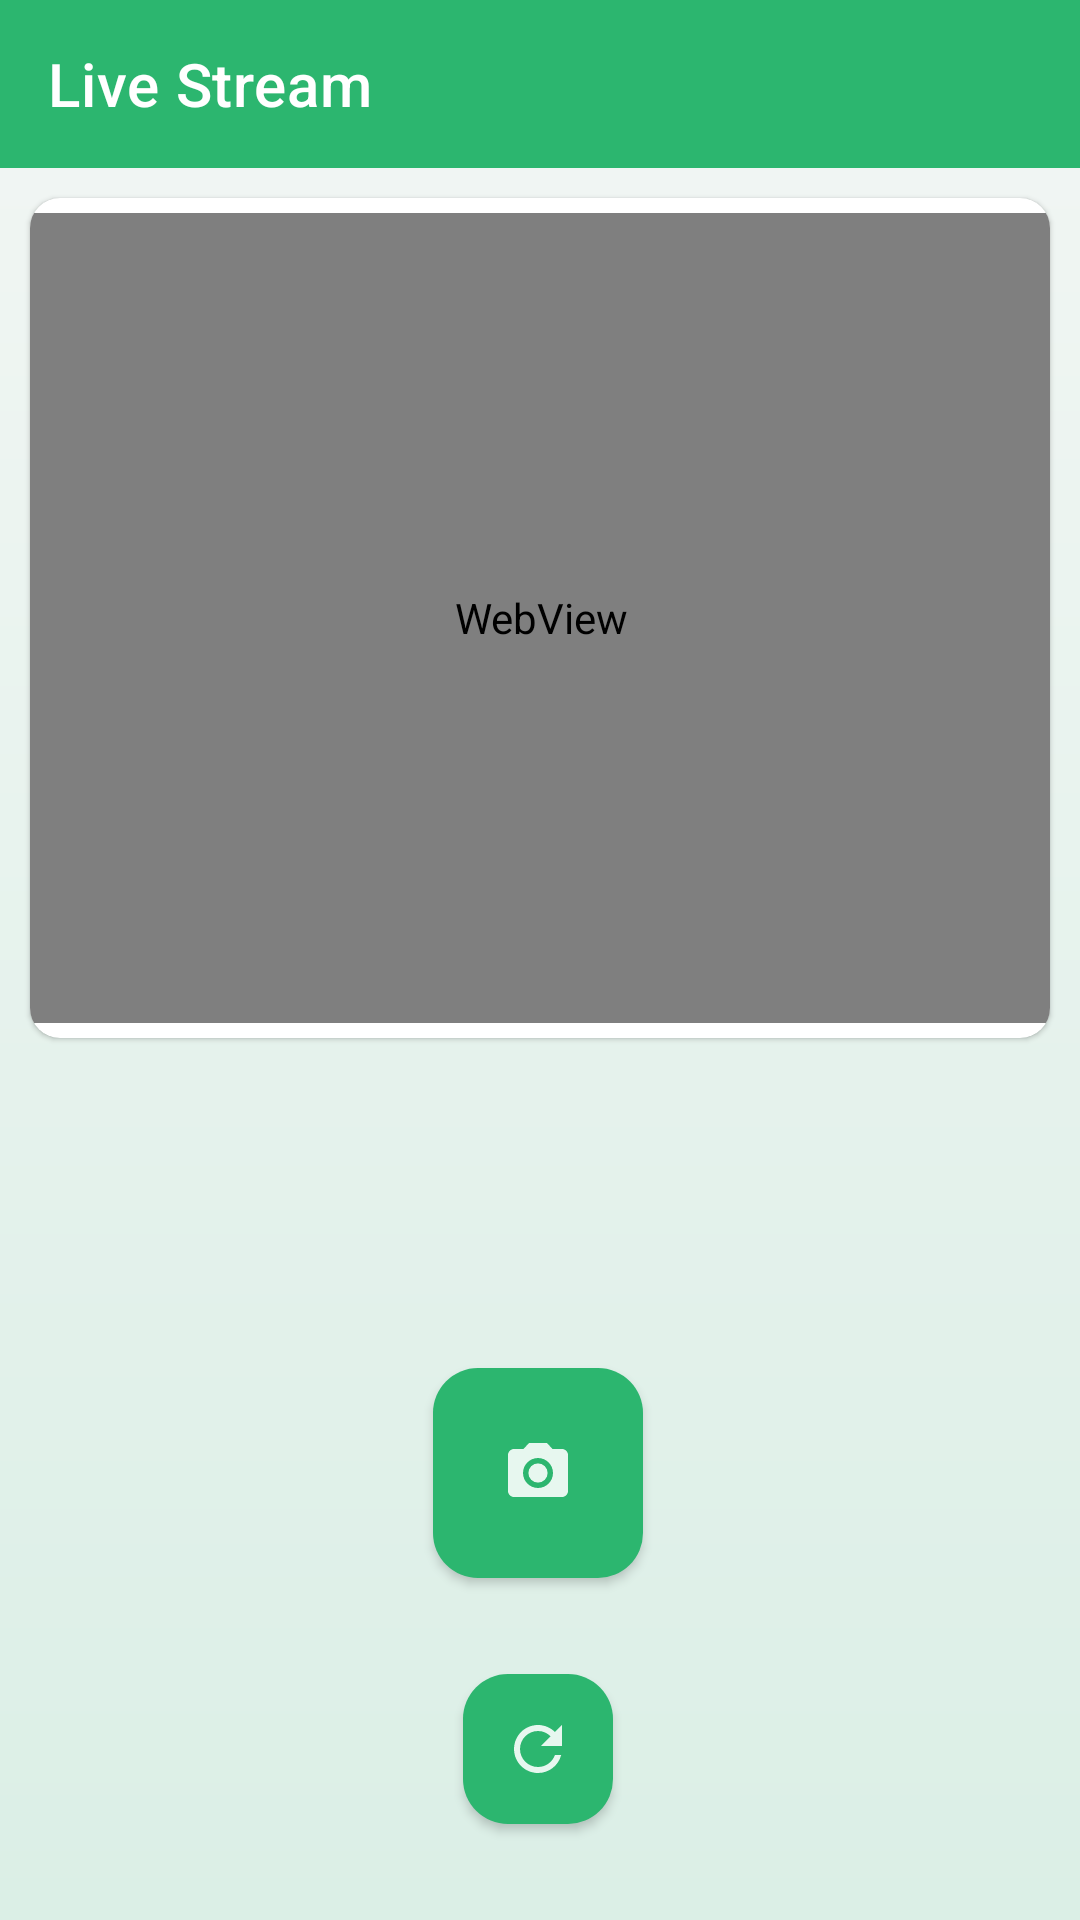

Point at icon controls on the screen. Image size 1080x1920, points as (x=x, y=y).
camera: (x=538, y=1473)
refresh: (x=538, y=1749)
